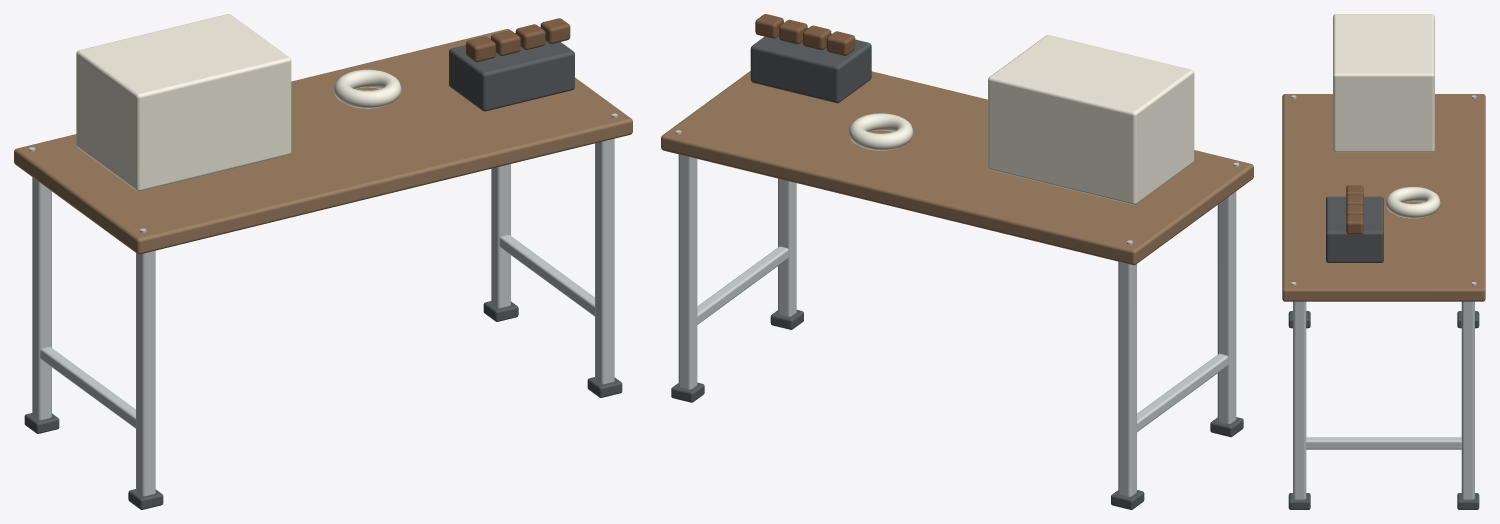
The model's file is chocolate-making-and-confectionery-confection-packing--efb16f78__39177.glb.
The picture shows the model from 3 angles, left to right: view 1: azimuth 30°, elevation 25°; view 2: azimuth 150°, elevation 25°; view 3: azimuth 270°, elevation 25°; orthographic projection. The views are drawn at different scales.
Visible parts, largest first — view 1: confection-packing-bench; view 2: confection-packing-bench; view 3: confection-packing-bench.
Boxes of the visible parts, x1,y1,x2,y2 form: confection-packing-bench: (14,14,632,509); confection-packing-bench: (661,14,1253,509); confection-packing-bench: (1282,14,1485,509).
Bounding box in the file's own units: 1.6 × 1.2 × 0.7001.
